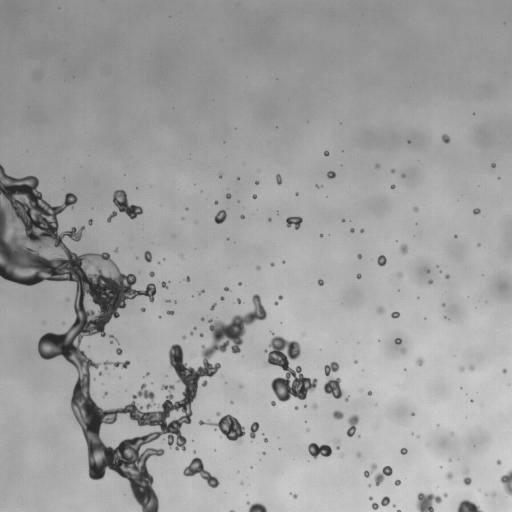droplet: (264, 332, 317, 401), (107, 189, 142, 221), (183, 457, 219, 487), (416, 493, 447, 511), (308, 442, 331, 458), (286, 216, 302, 229), (214, 209, 226, 223), (377, 255, 386, 266), (332, 410, 343, 419), (144, 250, 151, 262), (441, 134, 449, 143), (463, 476, 471, 485), (400, 244, 407, 254), (276, 174, 282, 185), (327, 171, 335, 178), (391, 311, 399, 318), (416, 357, 423, 365), (161, 281, 168, 288), (446, 472, 453, 479), (473, 208, 480, 214), (210, 303, 216, 310), (377, 306, 383, 313), (394, 338, 401, 344), (116, 348, 122, 355), (400, 448, 407, 454), (317, 279, 323, 285), (395, 479, 401, 485), (290, 493, 297, 498), (166, 310, 174, 314), (324, 150, 329, 156), (184, 276, 190, 281), (202, 380, 207, 386), (226, 193, 231, 198), (149, 271, 154, 276), (469, 365, 474, 370), (459, 366, 464, 371), (356, 452, 361, 457), (88, 219, 92, 225), (413, 207, 418, 211), (398, 272, 402, 277), (356, 274, 361, 278), (224, 287, 229, 291), (198, 290, 203, 294), (278, 295, 282, 300), (236, 299, 241, 303), (502, 368, 506, 373), (312, 404, 317, 408), (491, 163, 495, 167), (375, 164, 379, 168), (401, 173, 405, 177), (252, 194, 256, 198), (240, 215, 244, 219), (350, 228, 354, 232), (114, 248, 118, 252), (357, 254, 361, 258), (270, 262, 274, 266), (256, 266, 260, 270), (445, 274, 449, 278), (220, 296, 224, 300), (274, 301, 278, 305), (141, 307, 145, 311), (181, 335, 185, 339), (367, 391, 371, 395), (271, 401, 275, 405), (497, 460, 501, 464), (464, 469, 468, 473), (491, 492, 495, 496), (391, 185, 395, 188), (360, 228, 363, 232), (428, 280, 432, 283), (201, 317, 204, 321), (401, 349, 405, 352), (98, 372, 102, 375), (144, 373, 148, 376), (103, 392, 106, 396), (264, 438, 267, 442), (391, 169, 394, 172), (219, 174, 222, 177), (238, 282, 241, 285), (442, 303, 445, 306), (200, 333, 203, 336), (239, 385, 242, 388), (216, 412, 219, 415), (369, 497, 372, 500), (215, 200, 217, 204), (256, 181, 258, 184), (316, 185, 319, 187), (295, 193, 298, 195), (268, 218, 271, 220), (342, 219, 344, 222), (454, 235, 457, 237), (427, 270, 430, 272), (167, 299, 169, 302), (354, 360, 356, 363), (295, 406, 297, 409), (262, 452, 265, 454), (408, 141, 410, 143), (237, 177, 239, 179), (182, 217, 184, 219), (320, 234, 322, 236), (478, 244, 480, 246)
ligament: (0, 165, 266, 511), (198, 414, 245, 443), (323, 362, 349, 401), (374, 466, 393, 485), (346, 414, 359, 437), (500, 469, 511, 496), (457, 500, 482, 511), (103, 360, 129, 369), (372, 496, 390, 509), (247, 501, 267, 511), (249, 421, 259, 440), (364, 463, 376, 477), (334, 439, 340, 449), (109, 334, 117, 341), (190, 327, 196, 334), (230, 510, 234, 511), (397, 510, 401, 511)
